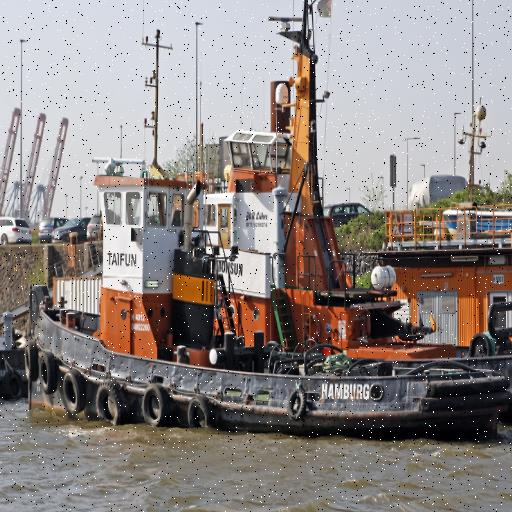tugboat: (23, 29, 512, 457)
